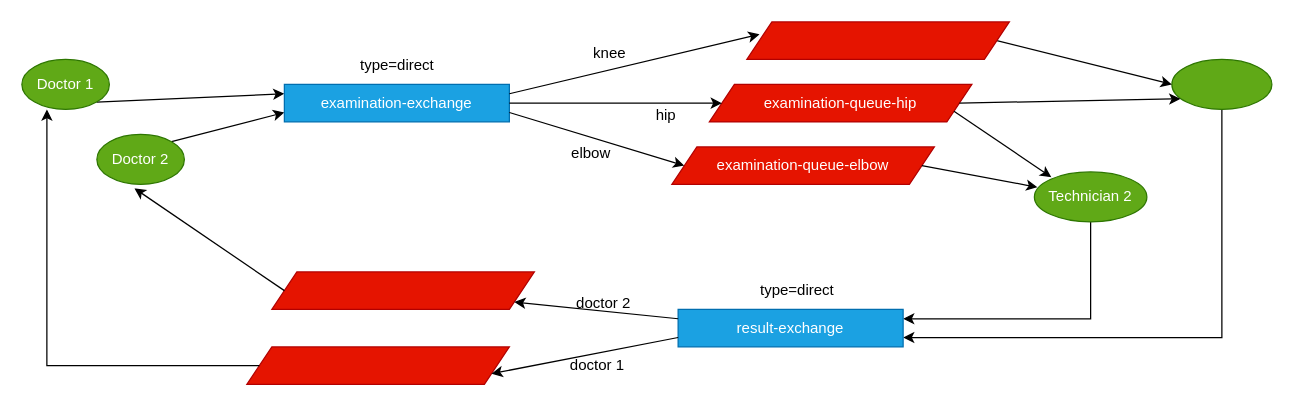
Some shapes in this 1294 by 406 pixel diagram are drawn without their labels. Here are the shapes that lost their labels. From the top down, the box of each, then its label:
(746, 21, 1009, 59): examination-queue-knee
(1171, 58, 1272, 109): Technician 1
(271, 271, 534, 309): results-queue-doctor2
(246, 346, 509, 384): results-queue-doctor1
